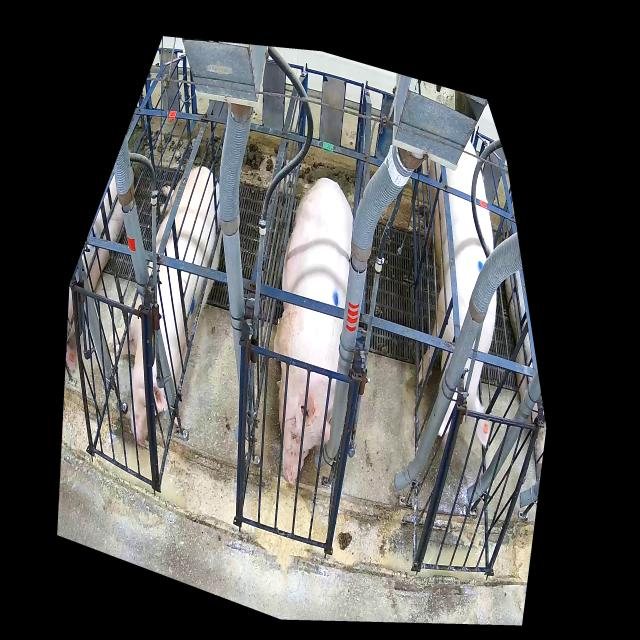pig: (107, 166, 222, 447), (273, 178, 353, 485), (418, 140, 497, 448)
